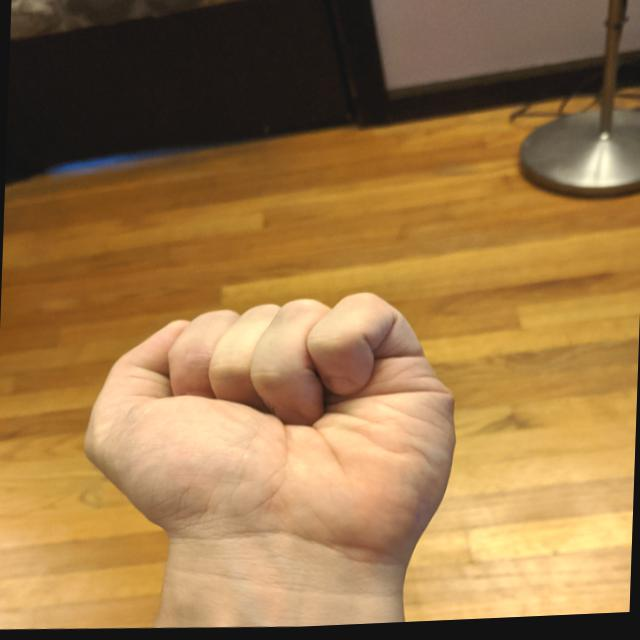A: (61, 271, 473, 590)
